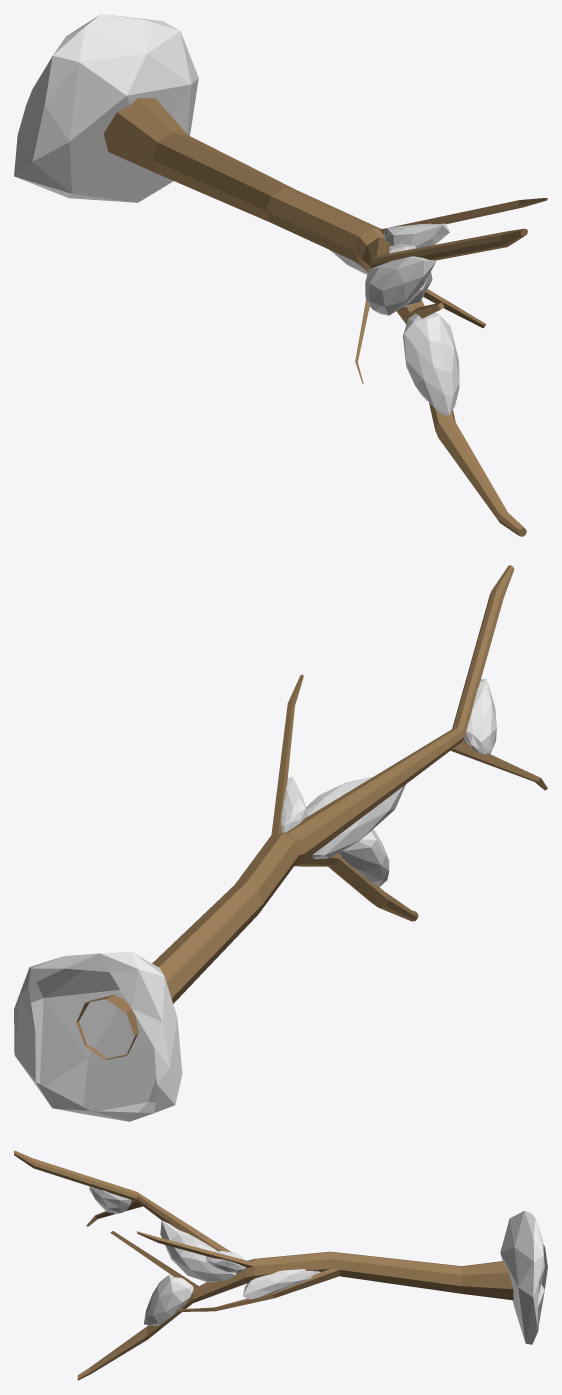
The model's file is tree-no-leaves-snow-2.glb.
The picture shows the model from 3 angles, top to bottom: view 1: azimuth 30°, elevation 25°; view 2: azimuth 150°, elevation 25°; view 3: azimuth 270°, elevation 25°; orthographic projection. The views are drawn at different scales.
Parts seen in each view (by area): view 1: Tree_2Snow; view 2: Tree_2Snow; view 3: Tree_2Snow.
Boxes of the visible parts, x1,y1,x2,y2 form: Tree_2Snow: (14, 14, 547, 536); Tree_2Snow: (14, 565, 547, 1121); Tree_2Snow: (14, 1150, 547, 1380).
Bounding box in the file's own units: 1.66 × 2.51 × 5.63.
